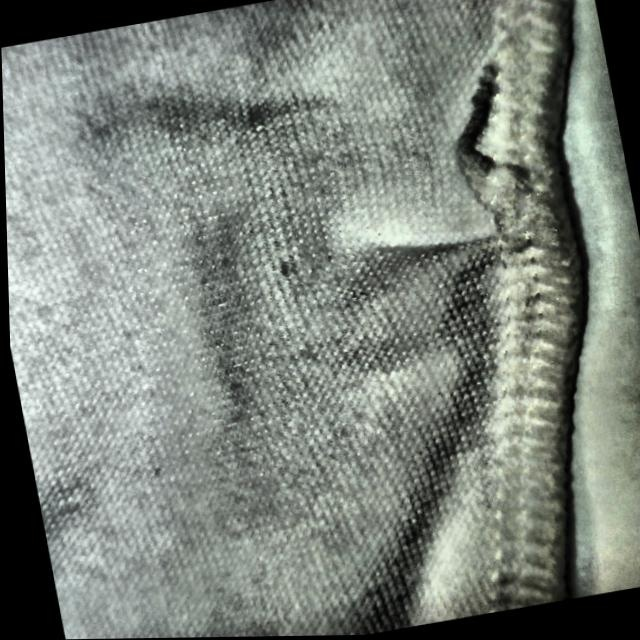seam: (361, 50, 590, 301)
